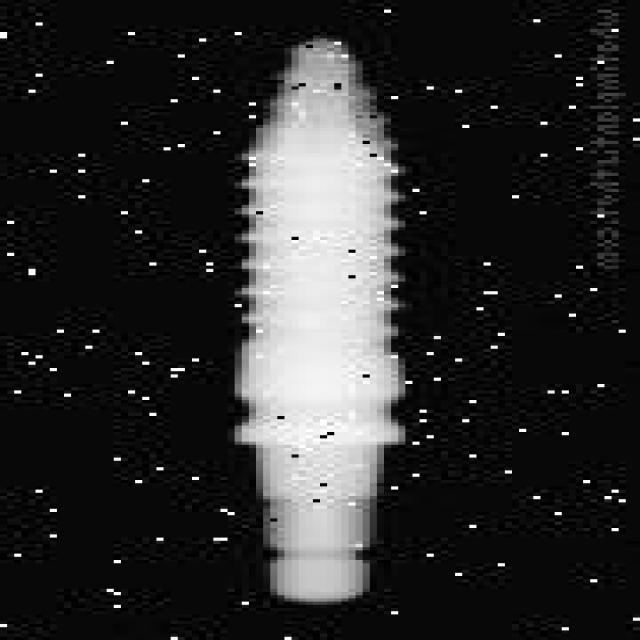Leone Implant: (228, 32, 405, 605)
